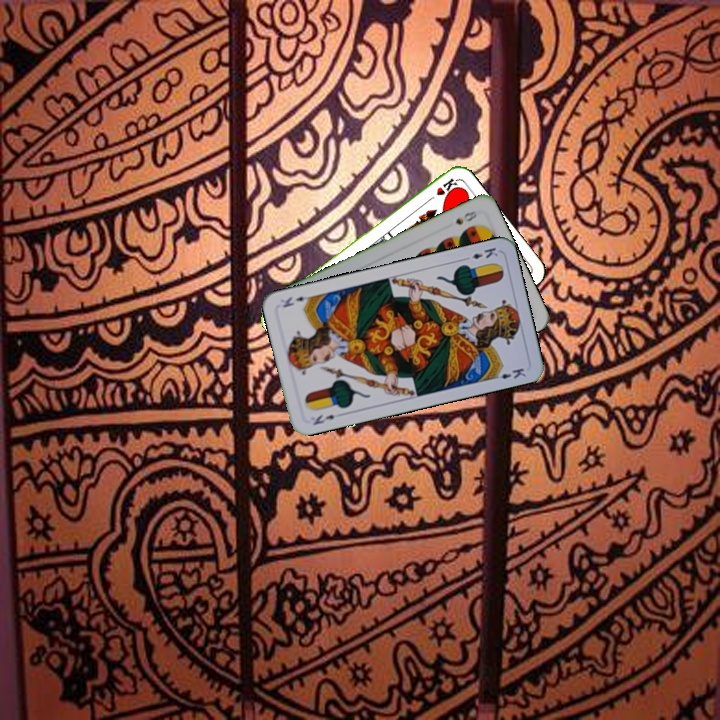EK: (460, 243, 500, 263), (309, 410, 337, 428)
HK: (423, 174, 460, 205)
S8: (451, 206, 479, 227)
